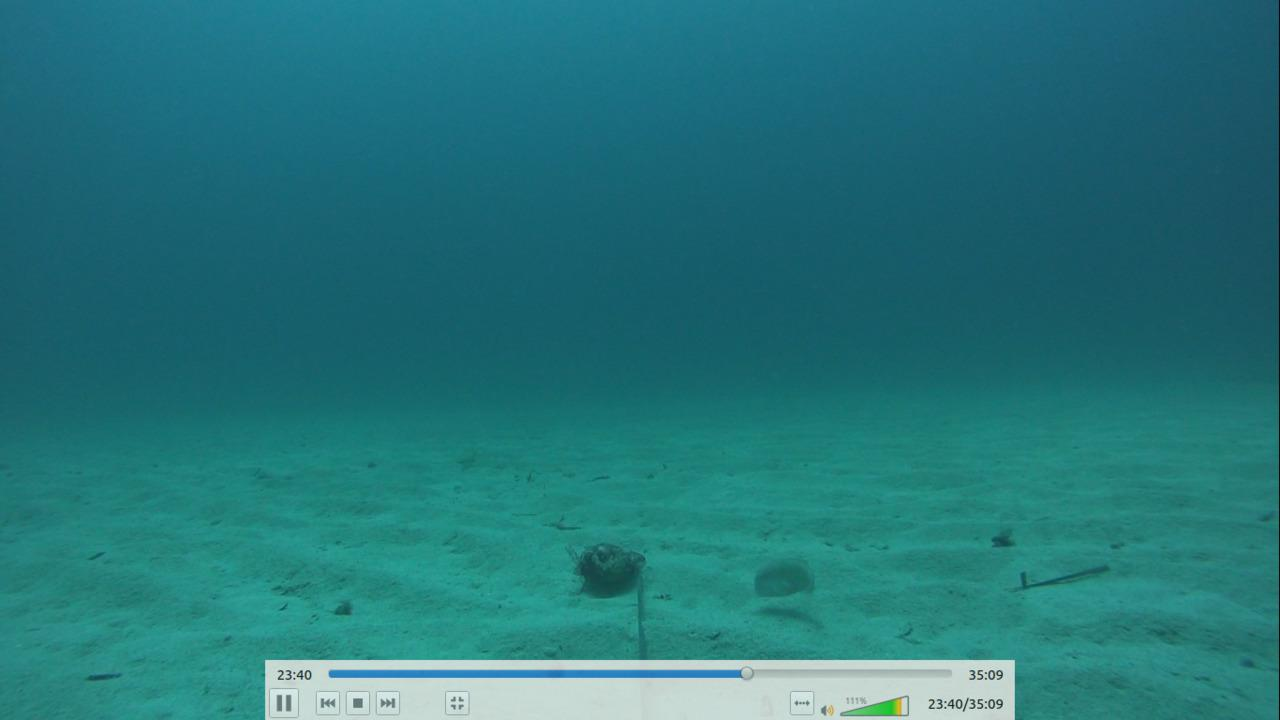raor: (747, 543, 821, 612)
